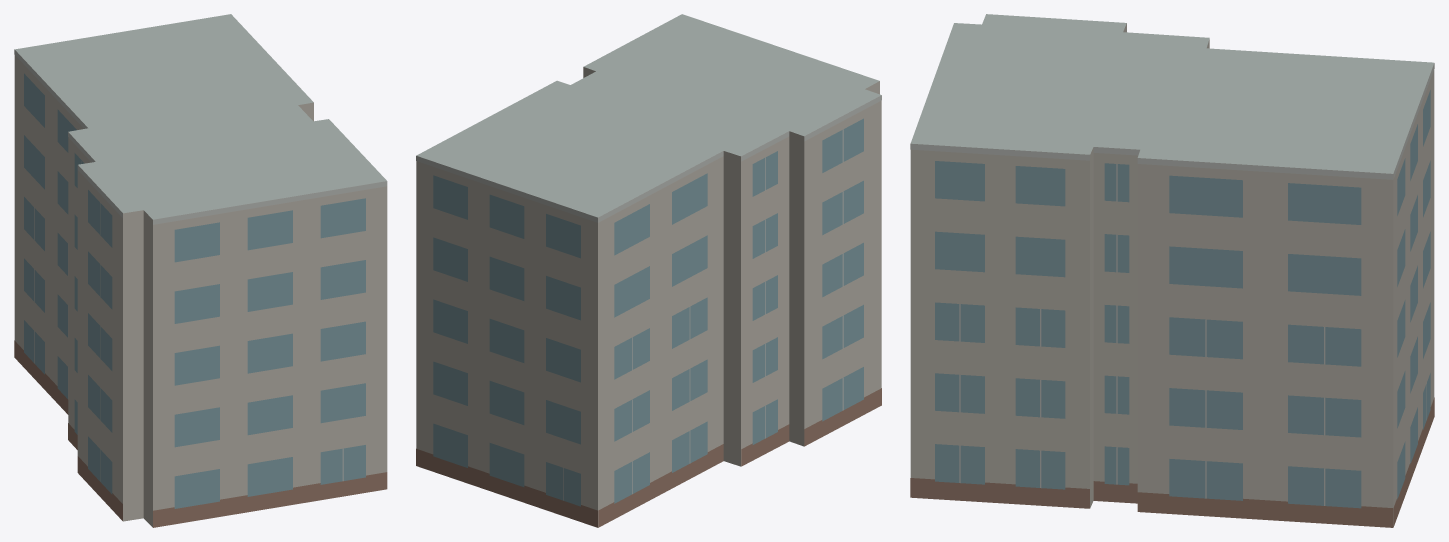
Rendered from survey-upis-32677596.glb.
3 renders of one model, left to right at view 1: azimuth 30°, elevation 25°; view 2: azimuth 150°, elevation 25°; view 3: azimuth 270°, elevation 25°, orthographic. The views are drawn at different scales.
Visible parts, largest first — view 1: survey-upis-32677596.tmp; view 2: survey-upis-32677596.tmp; view 3: survey-upis-32677596.tmp.
Part boxes in pixels (<box>): survey-upis-32677596.tmp: <box>14,14,387,527</box>; survey-upis-32677596.tmp: <box>416,14,881,527</box>; survey-upis-32677596.tmp: <box>910,14,1434,527</box>.
Bounding box in the file's own units: 14.01 × 14.45 × 19.4.
